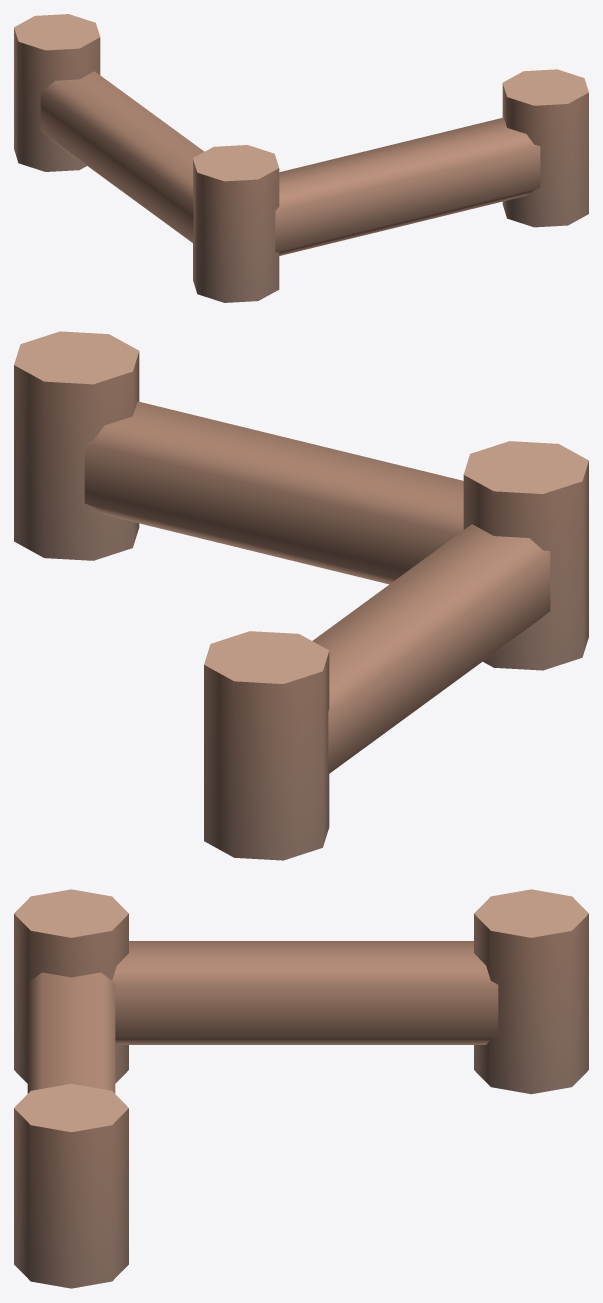
File: fence_corner.glb
3 renders of one model, top to bottom at view 1: azimuth 30°, elevation 25°; view 2: azimuth 150°, elevation 25°; view 3: azimuth 270°, elevation 25°, orthographic. The views are drawn at different scales.
Visible parts, largest first — view 1: fence_corner; view 2: fence_corner; view 3: fence_corner.
Boxes of the visible parts, left/top/right/bottom form: fence_corner: left=14, top=14, right=588, bottom=302; fence_corner: left=14, top=331, right=588, bottom=860; fence_corner: left=14, top=889, right=588, bottom=1288.
Bounding box in the file's own units: 1 × 0.3 × 1.
